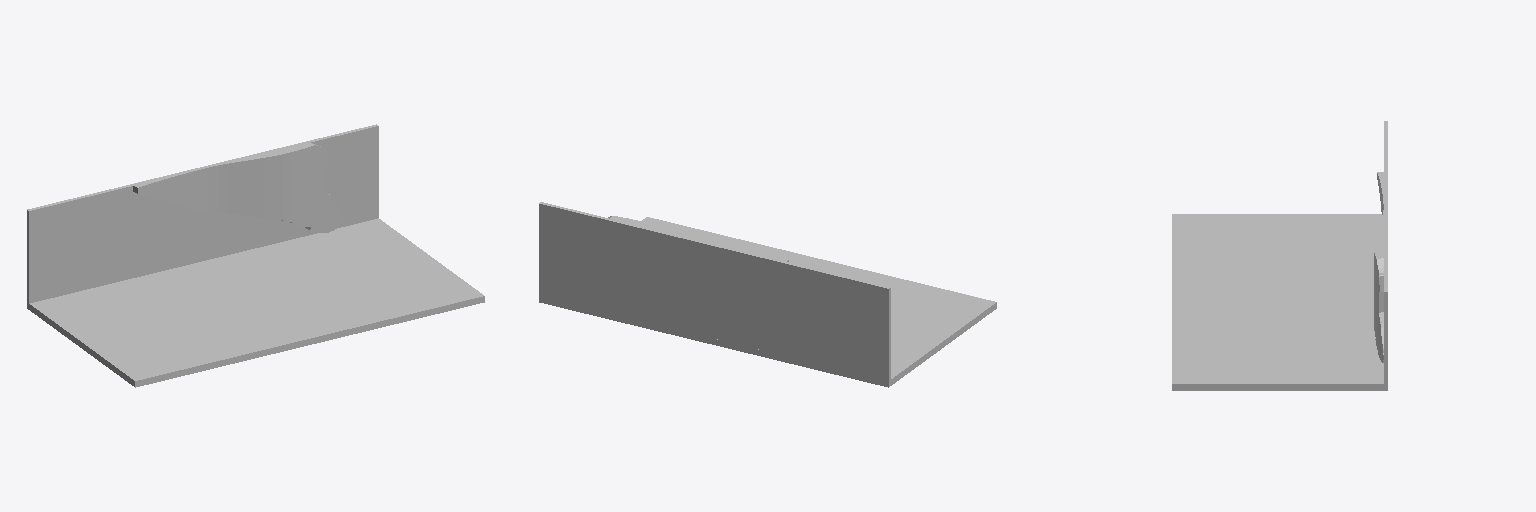
The model's file is mapping test_04.obj.
3 views of the same model, side by side, from view 1: azimuth 30°, elevation 25°; view 2: azimuth 150°, elevation 25°; view 3: azimuth 270°, elevation 25° (orthographic).
Visible parts, largest first — view 1: FLOOR, WALL, sculpture; view 2: WALL, FLOOR; view 3: FLOOR, sculpture, WALL.
Part boxes in pixels (bbox=[...]): FLOOR: bbox=[27, 218, 484, 387]; WALL: bbox=[27, 124, 378, 303]; sculpture: bbox=[133, 143, 343, 232]; WALL: bbox=[539, 202, 890, 380]; FLOOR: bbox=[539, 217, 996, 387]; FLOOR: bbox=[1172, 214, 1387, 390]; sculpture: bbox=[1374, 172, 1383, 362]; WALL: bbox=[1384, 121, 1387, 383].
Size of the model in its own units: 1135 by 307 by 608.